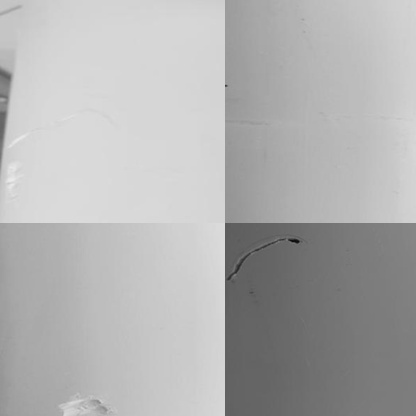fengxi: (228, 233, 302, 282)
sunshang: (58, 383, 117, 416), (4, 157, 36, 205)
